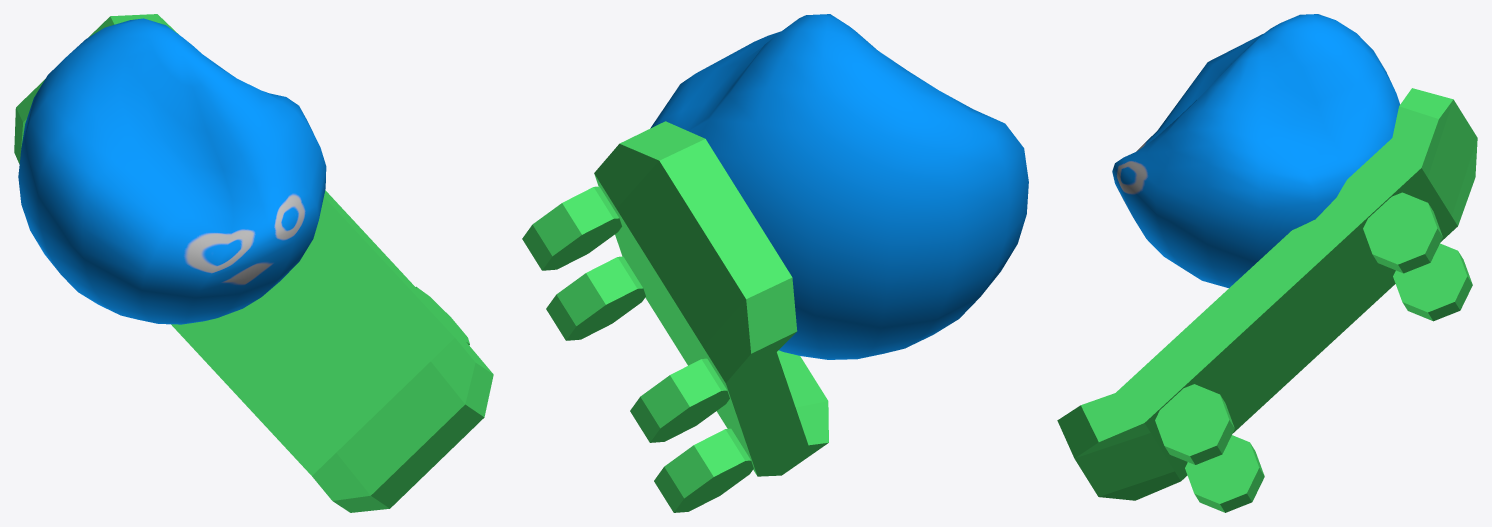
The model's file is TestBubblespeed_B.fbx.
3 renders of one model, left to right at view 1: azimuth 30°, elevation 25°; view 2: azimuth 150°, elevation 25°; view 3: azimuth 270°, elevation 25°, orthographic. The views are drawn at different scales.
Visible parts, largest first — view 1: bule.010, board.002; view 2: bule.010, board.002, board_subB.002, board_subA.002; view 3: board.002, bule.010, board_subB.002, board_subA.002.
Boxes of the visible parts, x1,y1,x2,y2 form: bule.010: (18, 18, 326, 324); board.002: (14, 14, 493, 512); bule.010: (650, 14, 1028, 359); board.002: (594, 121, 828, 476); board_subB.002: (522, 186, 729, 442); board_subA.002: (546, 256, 753, 512); board.002: (1057, 88, 1477, 500); bule.010: (1112, 14, 1399, 288); board_subB.002: (1363, 192, 1472, 321); board_subA.002: (1155, 384, 1264, 512).
Size of the model in its own units: 227 by 250 by 223.
Materials: 2 (1 with a texture image).
